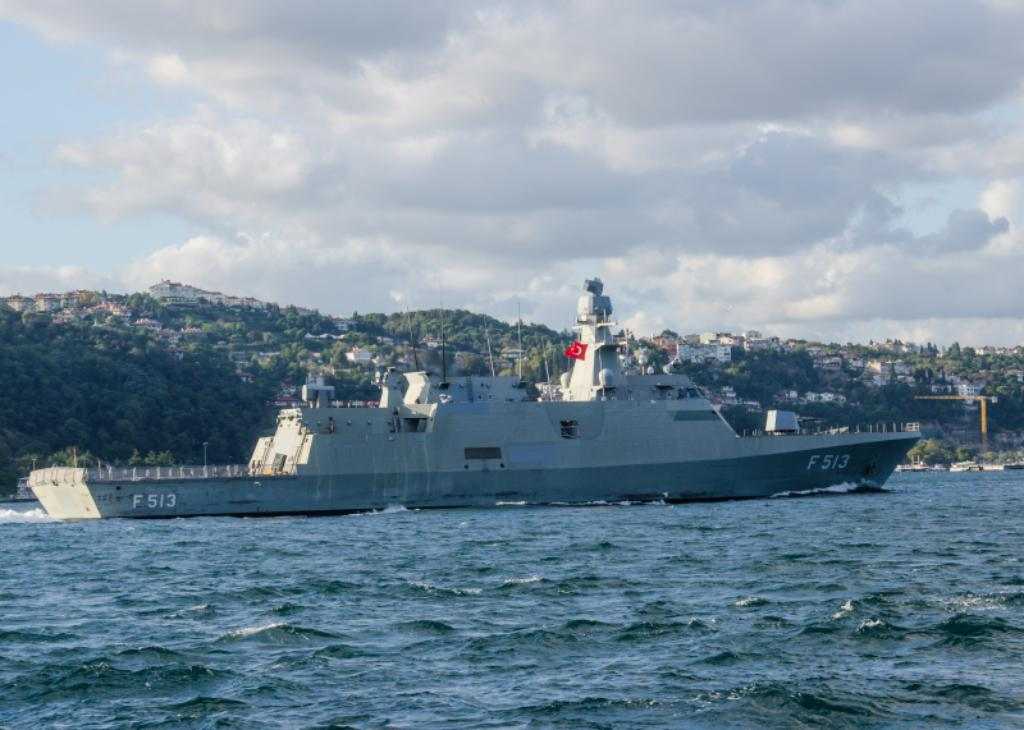Warship: (28, 275, 922, 521)
